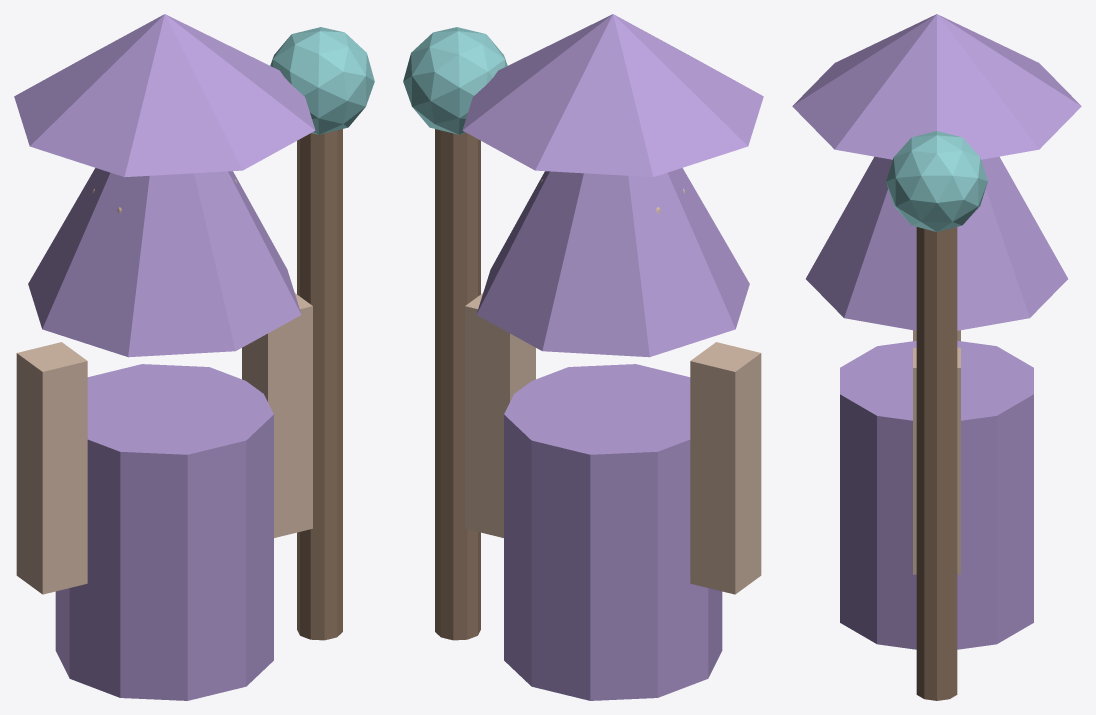
File: npc_mago.glb
3 renders of one model, left to right at view 1: azimuth 30°, elevation 25°; view 2: azimuth 150°, elevation 25°; view 3: azimuth 270°, elevation 25°, orthographic. The views are drawn at different scales.
Visible parts, largest first — view 1: part_002, part_001, part_007, part_005, part_003, part_004, part_006; view 2: part_002, part_001, part_007, part_005, part_003, part_004, part_006; view 3: part_002, part_007, part_001, part_005, part_006, part_004.
Boxes of the visible parts, x1,y1,x2,y2 form: part_002: (55,364,273,700); part_001: (28,168,301,357); part_007: (14,14,315,177); part_005: (297,129,342,640); part_003: (16,342,87,594); part_004: (242,293,312,537); part_006: (270,27,374,134); part_002: (504,364,722,700); part_001: (476,168,749,357); part_007: (462,14,763,177); part_005: (435,129,480,640); part_003: (690,342,761,594); part_004: (465,293,535,537); part_006: (403,27,507,134); part_002: (840,340,1033,649); part_007: (792,14,1081,159); part_001: (806,156,1067,330); part_005: (916,227,957,700); part_006: (886,131,987,231); part_004: (913,347,960,574).
Bounding box in the file's own units: 1.35 × 2.5 × 1.08.
